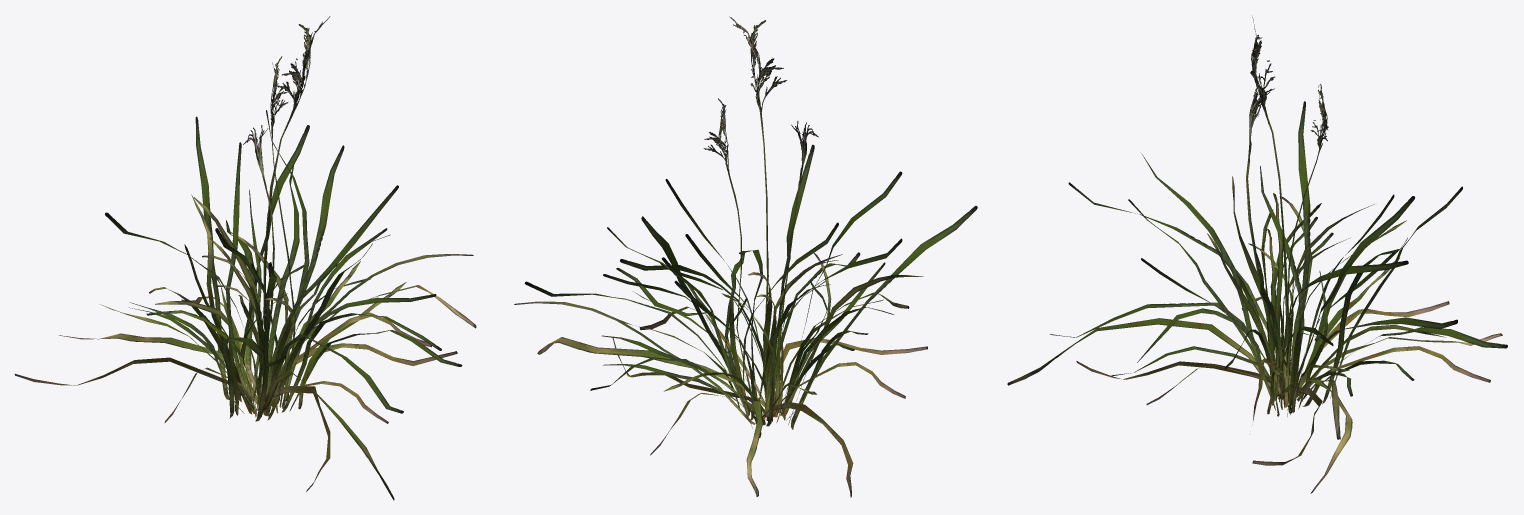
Rendered from meadow-grass.glb.
3 views of the same model, side by side, from view 1: azimuth 30°, elevation 25°; view 2: azimuth 150°, elevation 25°; view 3: azimuth 270°, elevation 25° (orthographic). The views are drawn at different scales.
Size of the model in its own units: 0.1878 by 0.1777 by 0.201.
Materials: 1 (1 with a texture image).
